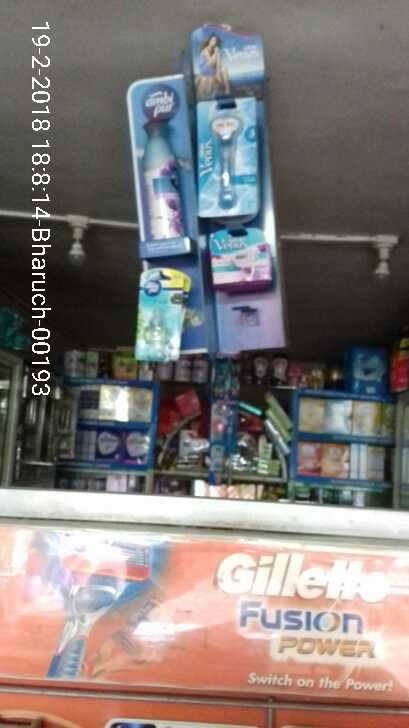ambipure: (130, 262, 196, 367), (139, 115, 195, 237)
beauty: (192, 100, 258, 216), (202, 229, 268, 287)
